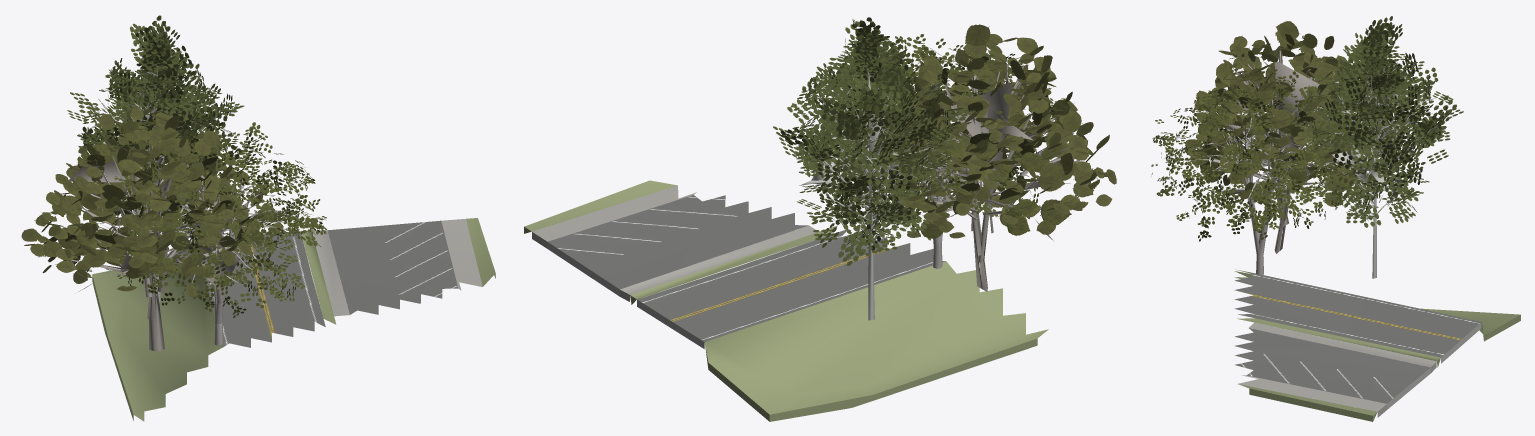
3 renders of one model, left to right at view 1: azimuth 30°, elevation 25°; view 2: azimuth 150°, elevation 25°; view 3: azimuth 270°, elevation 25°, orthographic. The views are drawn at different scales.
Parts seen in each view (by area): view 1: SW_W_trees_Tree_048_UNVERIFIEDspecies, SW_ground_west_asphalt_-2_2_UNVERIFIED, SW_ground_west_lawn_-2_2, SW_W_trees_Tree_069_UNVERIFIEDspecies, SW_W_trees_Tree_011_UNVERIFIEDspecies, SW_ground_west_concrete_-2_2_UNVERIFIED; view 2: SW_ground_west_lawn_-2_2, SW_ground_west_asphalt_-2_2_UNVERIFIED, SW_W_trees_Tree_048_UNVERIFIEDspecies, SW_W_trees_Tree_011_UNVERIFIEDspecies, SW_ground_west_concrete_-2_2_UNVERIFIED, SW_W_trees_Tree_069_UNVERIFIEDspecies; view 3: SW_ground_west_asphalt_-2_2_UNVERIFIED, SW_W_trees_Tree_011_UNVERIFIEDspecies, SW_W_trees_Tree_048_UNVERIFIEDspecies, SW_W_trees_Tree_069_UNVERIFIEDspecies, SW_ground_west_lawn_-2_2, SW_ground_west_concrete_-2_2_UNVERIFIED.
Boxes of the visible parts, x1=… form: SW_W_trees_Tree_048_UNVERIFIEDspecies: x1=21, y1=106, x2=283, y2=351; SW_ground_west_asphalt_-2_2_UNVERIFIED: x1=205, y1=220, x2=458, y2=347; SW_ground_west_lawn_-2_2: x1=92, y1=218, x2=495, y2=421; SW_W_trees_Tree_069_UNVERIFIEDspecies: x1=109, y1=122, x2=326, y2=345; SW_W_trees_Tree_011_UNVERIFIEDspecies: x1=67, y1=15, x2=244, y2=302; SW_ground_west_concrete_-2_2_UNVERIFIED: x1=311, y1=219, x2=482, y2=316; SW_ground_west_lawn_-2_2: x1=524, y1=180, x2=1048, y2=421; SW_ground_west_asphalt_-2_2_UNVERIFIED: x1=547, y1=195, x2=945, y2=348; SW_W_trees_Tree_048_UNVERIFIEDspecies: x1=848, y1=24, x2=1116, y2=291; SW_W_trees_Tree_011_UNVERIFIEDspecies: x1=773, y1=17, x2=968, y2=320; SW_ground_west_concrete_-2_2_UNVERIFIED: x1=532, y1=185, x2=816, y2=301; SW_W_trees_Tree_069_UNVERIFIEDspecies: x1=819, y1=34, x2=1060, y2=268; SW_ground_west_asphalt_-2_2_UNVERIFIED: x1=1234, y1=272, x2=1481, y2=409; SW_W_trees_Tree_011_UNVERIFIEDspecies: x1=1294, y1=16, x2=1463, y2=278; SW_W_trees_Tree_048_UNVERIFIEDspecies: x1=1184, y1=21, x2=1390, y2=253; SW_W_trees_Tree_069_UNVERIFIEDspecies: x1=1151, y1=64, x2=1360, y2=274; SW_ground_west_lawn_-2_2: x1=1234, y1=269, x2=1520, y2=421; SW_ground_west_concrete_-2_2_UNVERIFIED: x1=1238, y1=322, x2=1436, y2=417.
Bounding box in the file's own units: 46.23 × 29.83 × 32.57.
11 materials, 5 textured.
